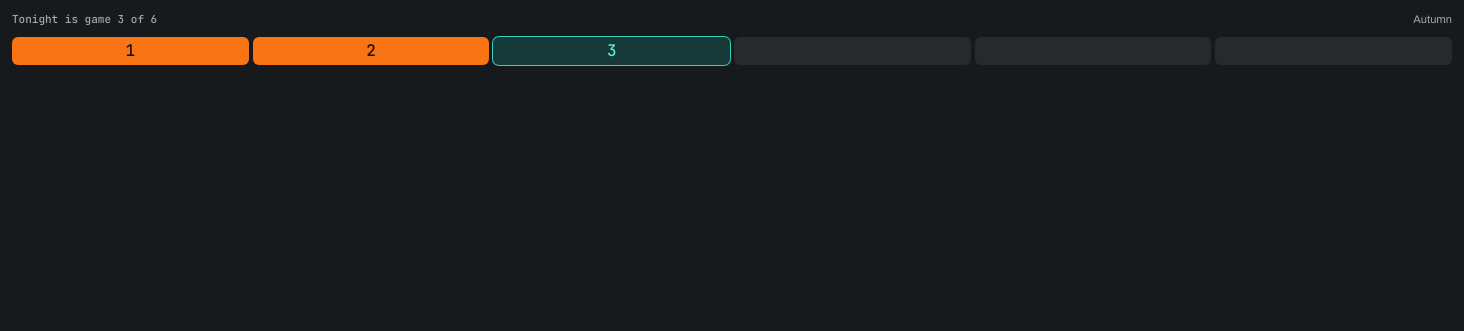
the season game bar › a played game opens its results, Summary and Reopen — and Reopen asks first
Later steps or results of the test are not shown.
Click the button named "Game 2" at (371, 51), box [253,37,489,65]
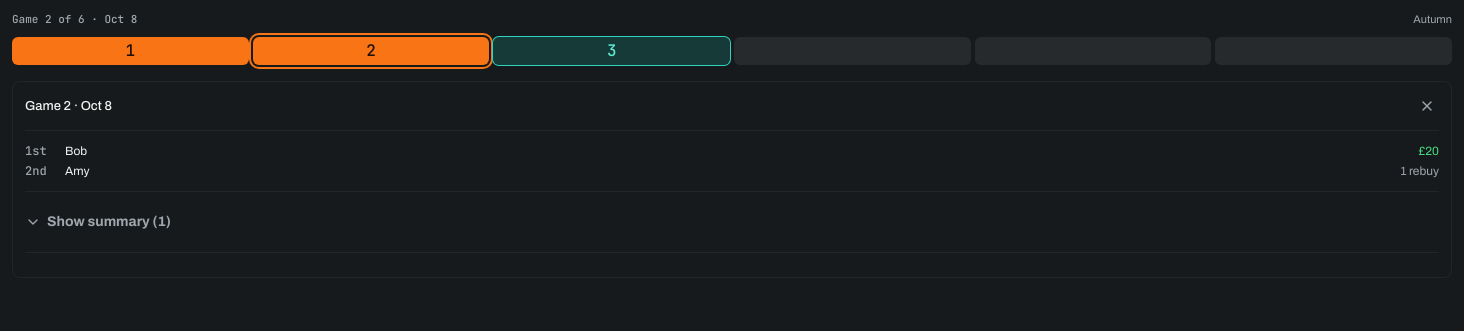
Check: the text "Amy rebought (1st)" is not shown
Check: the text "Bob" is shown, box [65,143,87,159]
Click the button "Show summary (1)" at (98, 222), box [17,204,179,240]
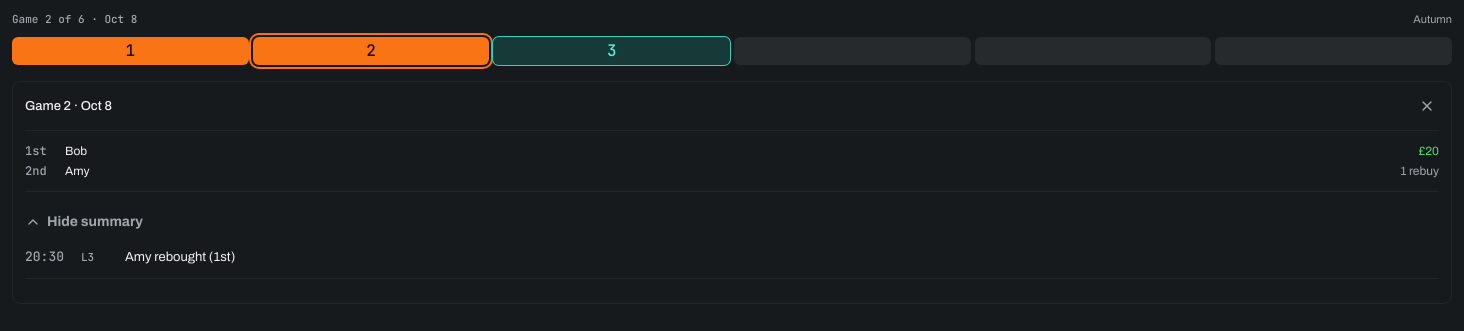
Check: the text "Amy rebought (1st)" is shown, box [125,248,235,266]
Click the button "Hide summary" at (84, 222), box [17,204,151,240]
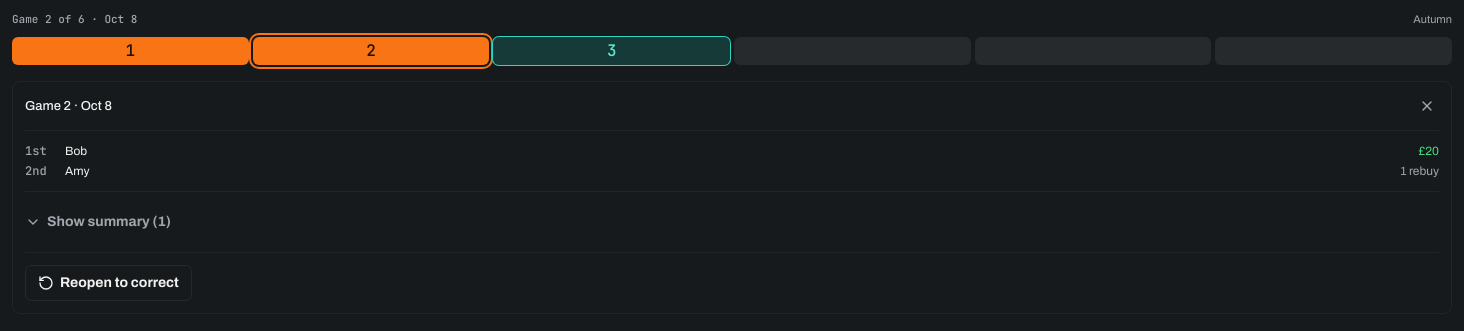
Check: the text "Amy rebought (1st)" is gone
